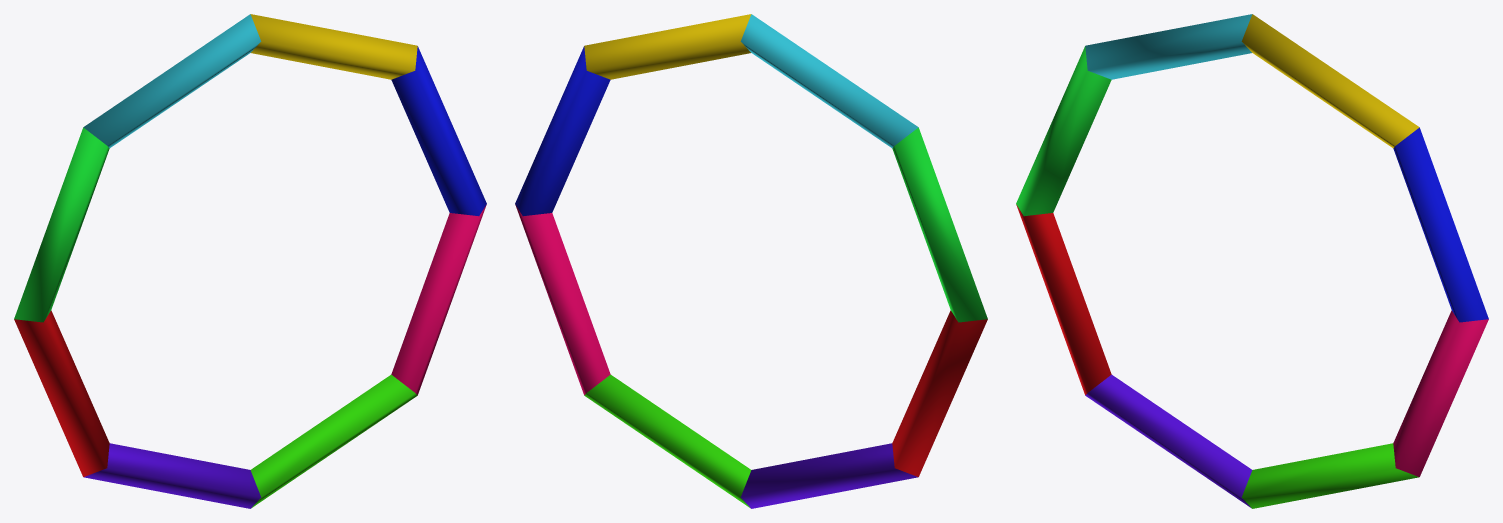
File: ring_single_convex_mesh.OBJ
The picture shows the model from 3 angles, left to right: view 1: azimuth 30°, elevation 25°; view 2: azimuth 150°, elevation 25°; view 3: azimuth 330°, elevation 25°; orthographic projection.
Parts seen in each view (by area): view 1: ring_single_convex_mesh; view 2: ring_single_convex_mesh; view 3: ring_single_convex_mesh.
Boxes of the visible parts, x1,y1,x2,y2 form: ring_single_convex_mesh: (14, 14, 486, 508); ring_single_convex_mesh: (515, 14, 987, 508); ring_single_convex_mesh: (1016, 14, 1488, 508).
Bounding box in the file's own units: 0.0756 × 0.0756 × 0.00598.
